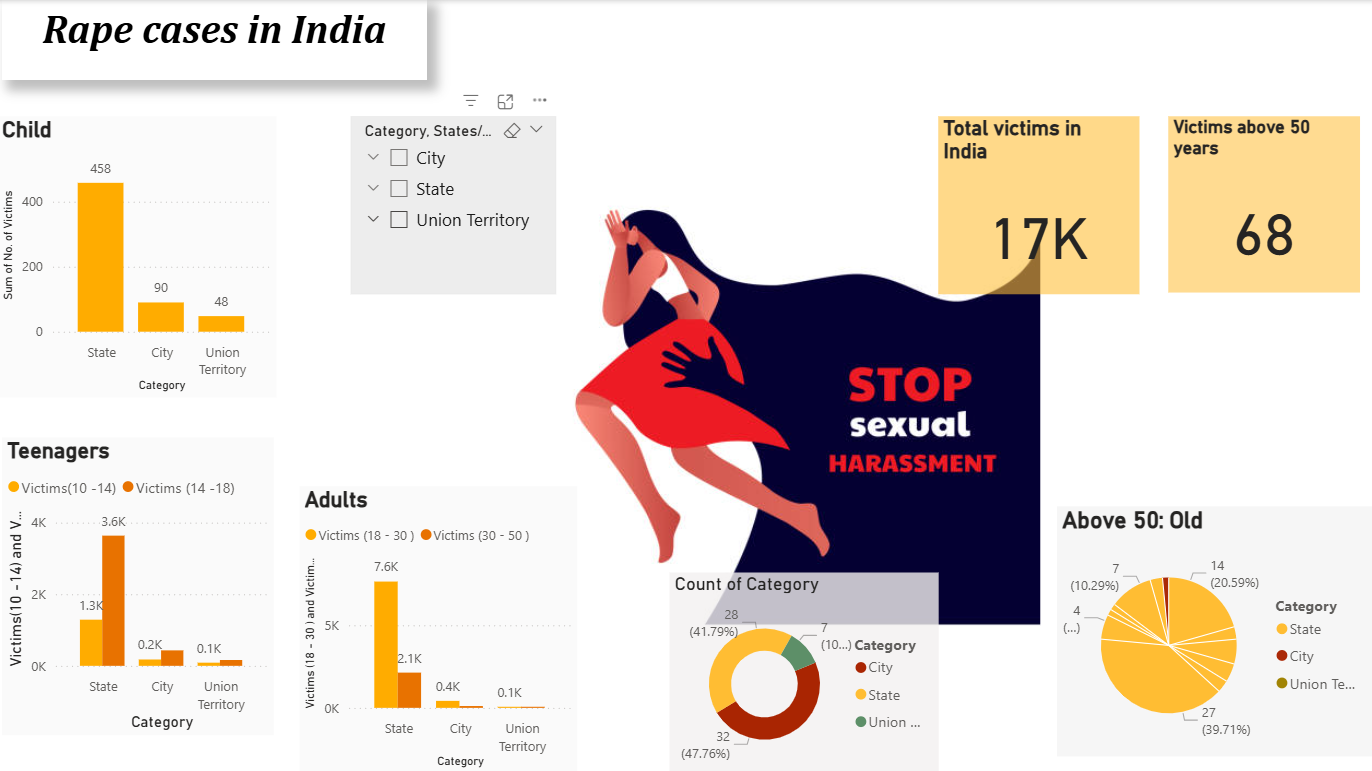

The page's visual inventory and layout, read from the dashboard file:
{"tool":"powerbi","page":{"name":"Page 1","canvas":[1280,720],"ordinal":0},"visuals":[{"type":"clusteredColumnChart","title":"Child","fields":{"Category":["NCRB_2001_Table_28.Category"],"Y":["Sum(NCRB_2001_Table_28.No. of Victims (Other Rape Cases) upto 10 Years)"]},"box":[0,108.6,260,261.4],"z":0},{"type":"clusteredColumnChart","title":"Teenagers","fields":{"Category":["NCRB_2001_Table_28.Category"],"Y":["Sum(NCRB_2001_Table_28.No. of Victims (Other Rape Cases) - 10 - 14 Years)","Sum(NCRB_2001_Table_28.No. of Victims (Other Rape Cases) - 14 - 18 Years)"]},"box":[4.3,407.1,252.9,277.1],"z":1000},{"type":"clusteredColumnChart","title":"Adults","fields":{"Category":["NCRB_2001_Table_28.Category"],"Y":["Sum(NCRB_2001_Table_28.No. of Victims (Other Rape Cases) - 18 - 30 Years)","Sum(NCRB_2001_Table_28.No. of Victims (Other Rape Cases) - 30 - 50 Years)"]},"box":[281.4,452.9,258.6,267.1],"z":2000},{"type":"textbox","box":[4.7,0,395.3,74.4],"z":3000},{"type":"card","title":"Victims above 50 years","fields":{"Values":["Sum(NCRB_2001_Table_28.No. of Victims (Other Rape Cases) above 50 Years)"]},"box":[1090,108.6,178.6,164.3],"z":4000},{"type":"card","title":"Total victims in India","fields":{"Values":["Sum(NCRB_2001_Table_28.No. of Victims (Other Rape Cases) - Total Victims)"]},"box":[875.7,108.6,187.1,165.7],"z":5000},{"type":"slicer","fields":{"Values":["NCRB_2001_Table_28.Category","NCRB_2001_Table_28.States/UTs/Cities"]},"box":[328.6,108.6,191.4,165.7],"z":6000},{"type":"pieChart","title":"Above 50: Old","fields":{"Category":["NCRB_2001_Table_28.Category"],"Y":["Sum(NCRB_2001_Table_28.No. of Victims (Other Rape Cases) above 50 Years)"],"Series":["NCRB_2001_Table_28.States/UTs/Cities"]},"box":[985.7,471.4,294.3,232.9],"z":7000},{"type":"donutChart","title":"Count of Category","fields":{"Category":["NCRB_2001_Table_28.Category"],"Y":["CountNonNull(NCRB_2001_Table_28.Category)"]},"box":[625.6,532.6,250,187.2],"z":8000}]}

Visuals, with their boxes in screenshot pixels (x1, y1, x2, y2), scaled from the page's 1280x720 canvas onto the 1372x771 screenshot:
"Child" clusteredColumnChart: bbox=(0, 116, 279, 396)
"Teenagers" clusteredColumnChart: bbox=(5, 436, 276, 733)
"Adults" clusteredColumnChart: bbox=(302, 485, 579, 770)
textbox: bbox=(5, 0, 429, 80)
"Victims above 50 years" card: bbox=(1168, 116, 1360, 292)
"Total victims in India" card: bbox=(939, 116, 1139, 294)
slicer - NCRB_2001_Table_28.Category x NCRB_2001_Table_28.States/UTs/Cities: bbox=(352, 116, 557, 294)
"Above 50: Old" pieChart: bbox=(1057, 505, 1371, 754)
"Count of Category" donutChart: bbox=(671, 570, 939, 770)
